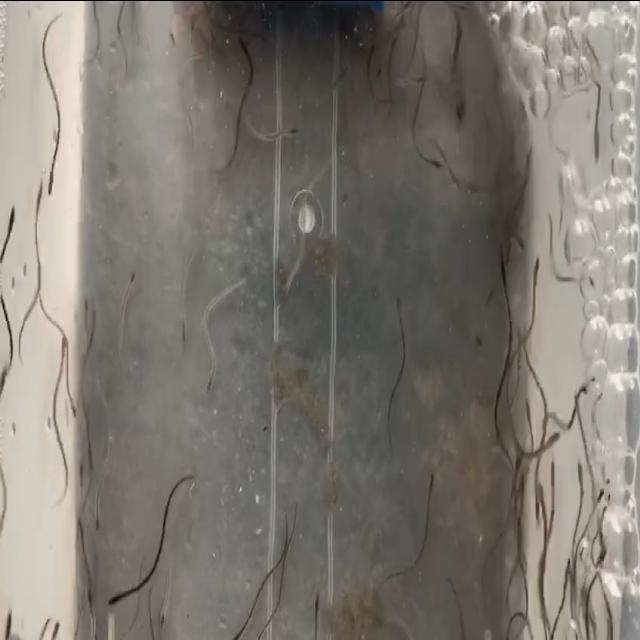active_glass_eel: (586, 115, 606, 177), (522, 134, 544, 182), (519, 398, 539, 448), (70, 376, 87, 434), (232, 19, 250, 70), (575, 370, 591, 420), (569, 454, 587, 498), (591, 528, 608, 574), (539, 488, 555, 536), (90, 496, 106, 544), (392, 282, 414, 316), (502, 449, 524, 483), (122, 264, 136, 316), (105, 580, 120, 628), (548, 469, 568, 505), (330, 52, 352, 84), (527, 261, 541, 309), (156, 597, 172, 637), (419, 468, 439, 500), (597, 491, 617, 523), (557, 540, 569, 593), (304, 582, 322, 616), (593, 480, 611, 514), (73, 454, 89, 492), (412, 62, 433, 90), (0, 598, 14, 640), (495, 268, 514, 298), (532, 394, 548, 429), (546, 421, 562, 456), (200, 372, 216, 406), (79, 286, 91, 331), (188, 7, 202, 44), (473, 320, 488, 354), (422, 150, 439, 179), (454, 89, 470, 119), (55, 322, 71, 352), (86, 578, 98, 617), (34, 175, 44, 219), (280, 125, 299, 148), (44, 162, 56, 196), (48, 613, 63, 640), (228, 618, 244, 640), (3, 205, 15, 232), (165, 27, 177, 52), (176, 334, 187, 359)
